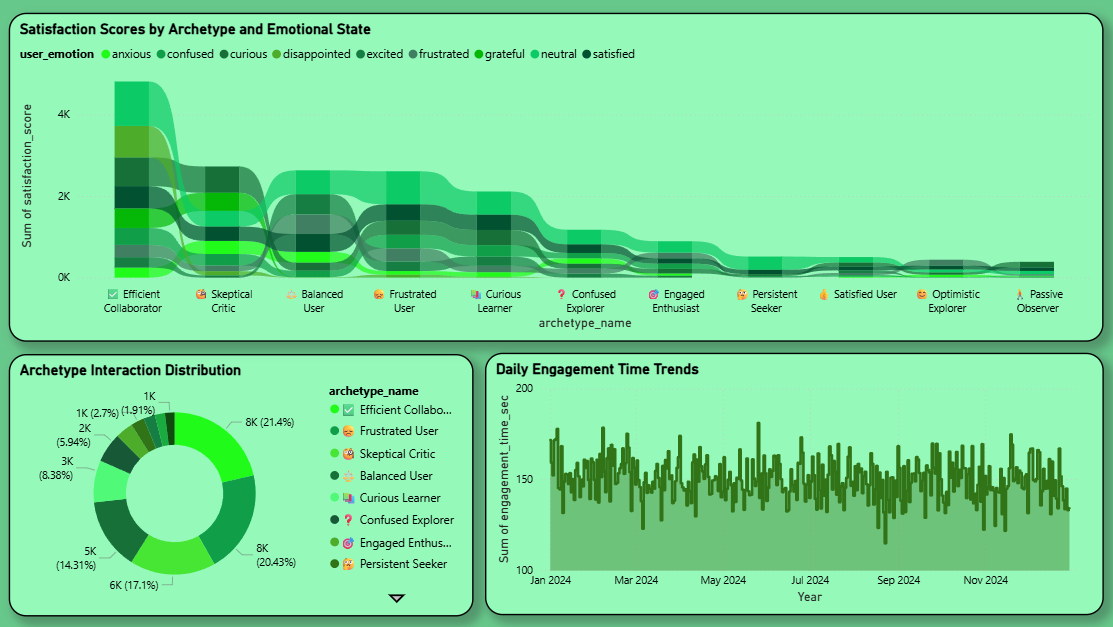

This screenshot's page, from the dashboard's own definition file:
{"tool":"powerbi","page":{"name":"Page 3","canvas":[1280,720],"ordinal":2},"visuals":[{"type":"donutChart","title":"Archetype Interaction Distribution","fields":{"Category":["powerbi_archetype_summary (2).archetype_name"],"Y":["Sum(powerbi_archetype_summary (2).conversation_id_count)"]},"box":[15.7,405.7,531.4,300],"z":0},{"type":"ribbonChart","title":"Satisfaction Scores by Archetype and Emotional State","fields":{"Category":["powerbi_interaction_data (3).archetype_name"],"Y":["Sum(powerbi_interaction_data (3).satisfaction_score)"],"Series":["powerbi_interaction_data (3).user_emotion"]},"box":[16.2,15,1251.2,376.2],"z":1000},{"type":"stackedAreaChart","title":"Daily Engagement Time Trends","fields":{"Y":["Sum(powerbi_temporal_trends (2).engagement_time_sec)"],"Category":["powerbi_temporal_trends (2).date.Variation.Date Hierarchy.Year","powerbi_temporal_trends (2).date.Variation.Date Hierarchy.Quarter","powerbi_temporal_trends (2).date.Variation.Date Hierarchy.Month","powerbi_temporal_trends (2).date.Variation.Date Hierarchy.Day"]},"box":[560,404.3,707.1,300],"z":2000}]}

Visuals, with their boxes in screenshot pixels (x1, y1, x2, y2), scaled from the page's 1280x720 canvas onto the 1113x627 screenshot:
"Archetype Interaction Distribution" donutChart: region(14, 353, 476, 615)
"Satisfaction Scores by Archetype and Emotional State" ribbonChart: region(14, 13, 1102, 341)
"Daily Engagement Time Trends" stackedAreaChart: region(487, 352, 1102, 613)
